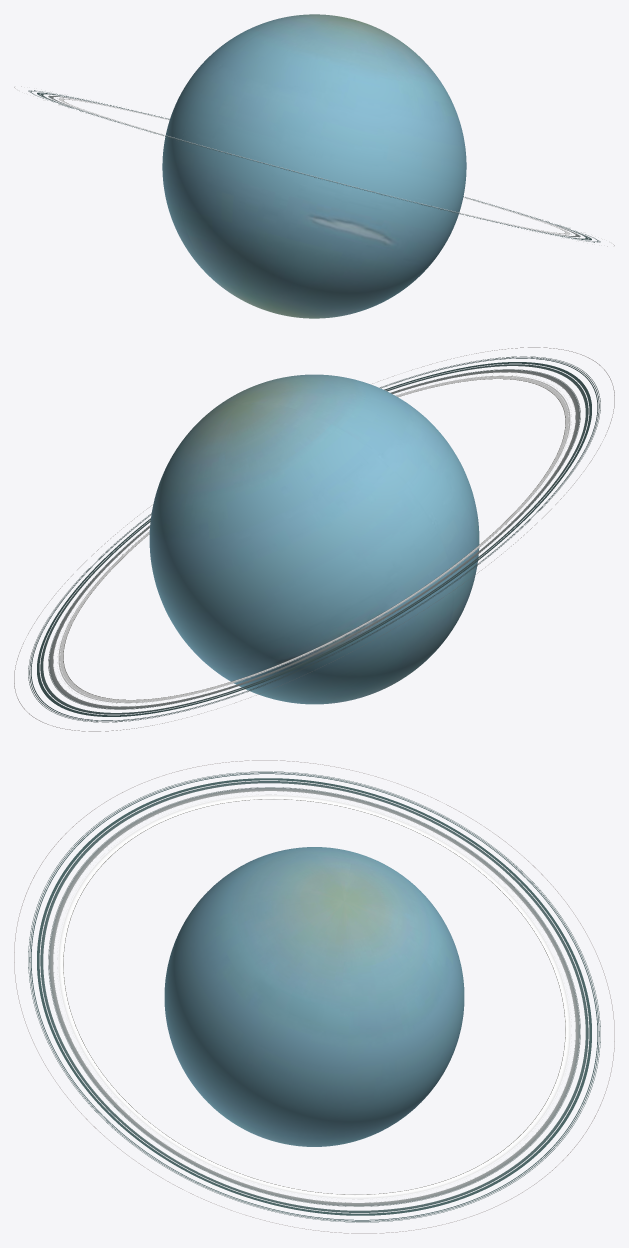
Rendered from uranus.glb.
The picture shows the model from 3 angles, top to bottom: view 1: azimuth 30°, elevation 25°; view 2: azimuth 150°, elevation 25°; view 3: azimuth 270°, elevation 25°; orthographic projection. The views are drawn at different scales.
Parts seen in each view (by area): view 1: node_id107, node_id109; view 2: node_id107, node_id109; view 3: node_id107, node_id109.
Part boxes in pixels (x1,y1,x2,y2): node_id107: [162, 14, 466, 318]; node_id109: [14, 86, 614, 246]; node_id107: [149, 374, 479, 704]; node_id109: [14, 347, 614, 731]; node_id107: [164, 847, 464, 1146]; node_id109: [14, 760, 614, 1233].
Bounding box in the file's own units: 0.4674 × 0.2506 × 0.5019.
Materials: 2 (2 with a texture image).
